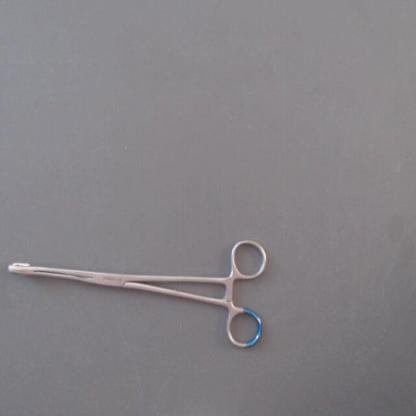Sponge Forceps: (1, 232, 272, 362)
